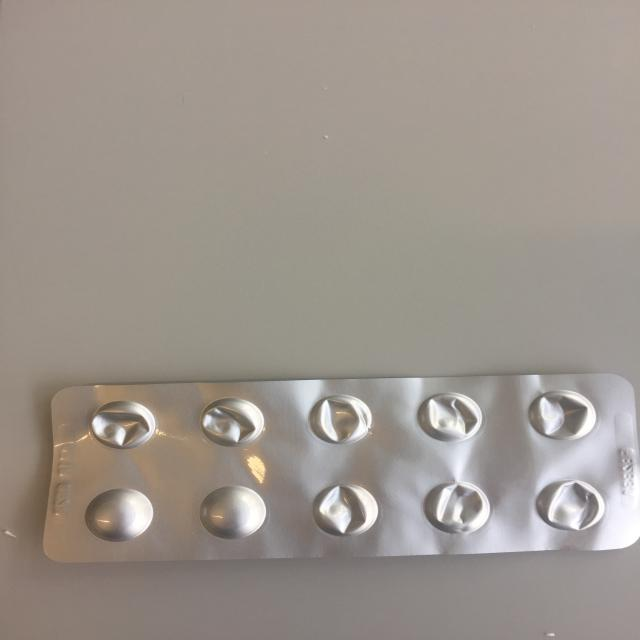Empty: (308, 480, 383, 539), (534, 476, 610, 532), (525, 387, 600, 443), (86, 396, 159, 452), (196, 395, 270, 449), (422, 479, 493, 535), (303, 393, 377, 444), (415, 390, 484, 443)
Pill: (81, 484, 157, 544), (197, 482, 269, 542)
